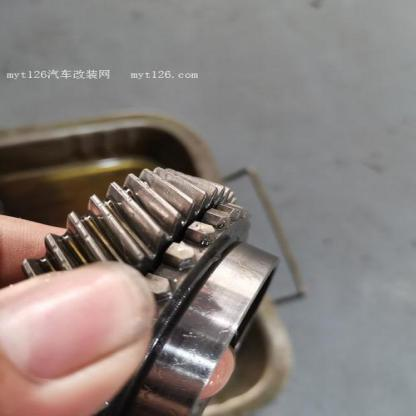FOD: (0, 167, 284, 415)
